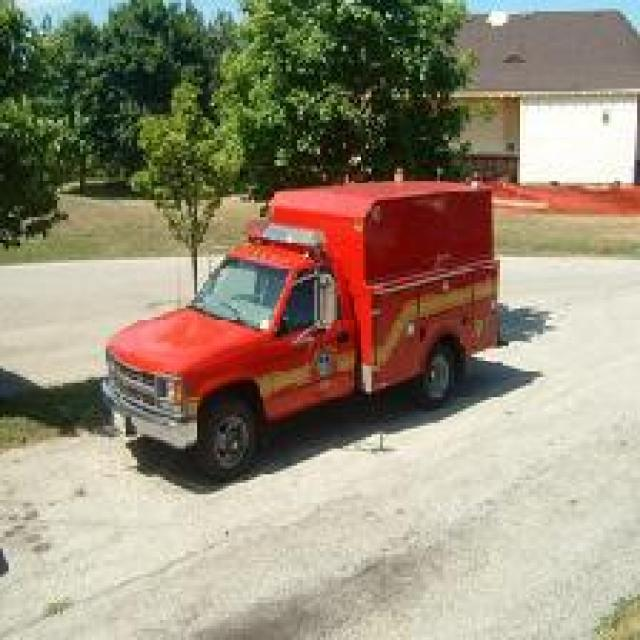emergency: (97, 170, 509, 482)
